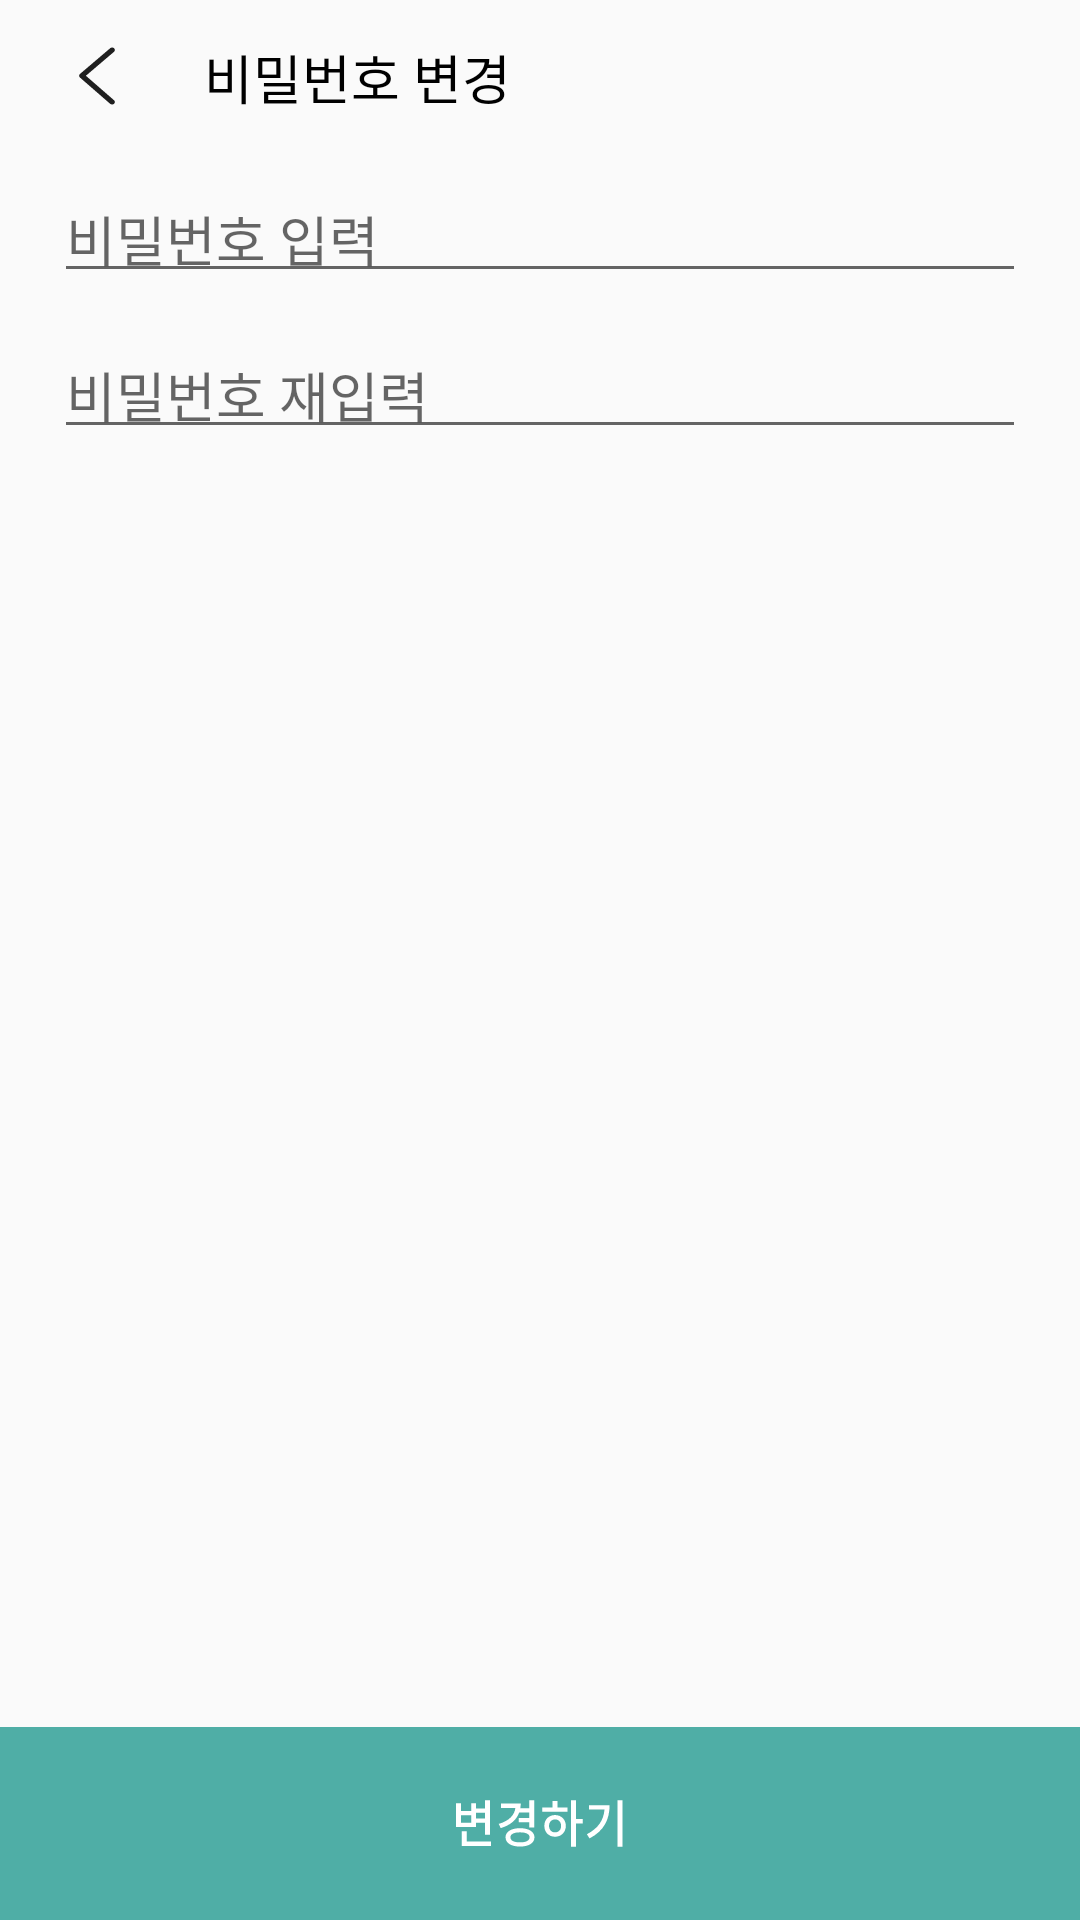

Icons on this 1080 × 1920 Android screen, each with its box as {"x1": x1, "y1": y1, "x2": x2, "y2": y2}:
back: {"x1": 79, "y1": 47, "x2": 115, "y2": 105}
